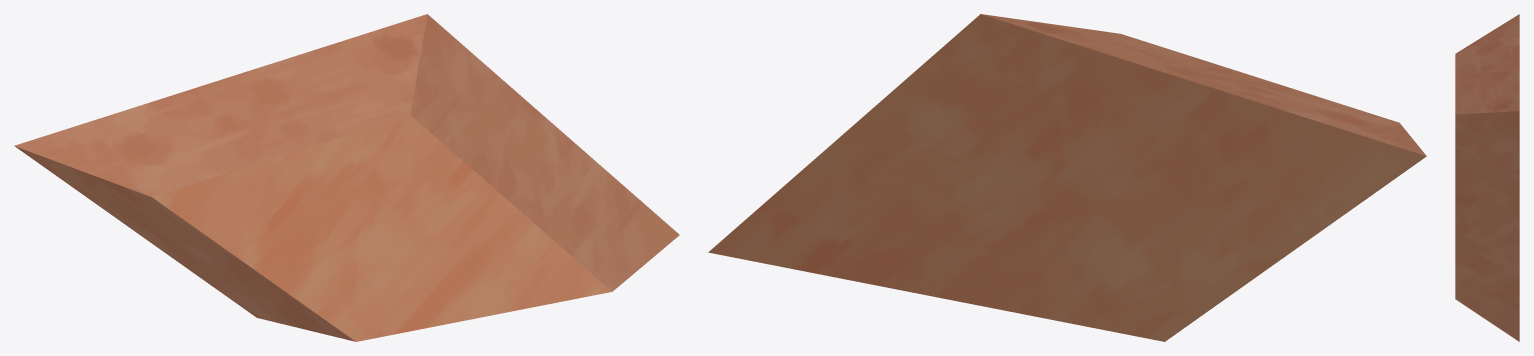
File: wall2_upper_s00.fbx
3 renders of one model, left to right at view 1: azimuth 30°, elevation 25°; view 2: azimuth 150°, elevation 25°; view 3: azimuth 270°, elevation 25°, orthographic. The views are drawn at different scales.
Visible parts, largest first — view 1: wall2_upper_s00; view 2: wall2_upper_s00; view 3: wall2_upper_s00.
Boxes of the visible parts, x1,y1,x2,y2 form: wall2_upper_s00: [14, 14, 679, 341]; wall2_upper_s00: [708, 14, 1426, 341]; wall2_upper_s00: [1455, 14, 1519, 341].
Bounding box in the file's own units: 6.82 × 2.77 × 1.
